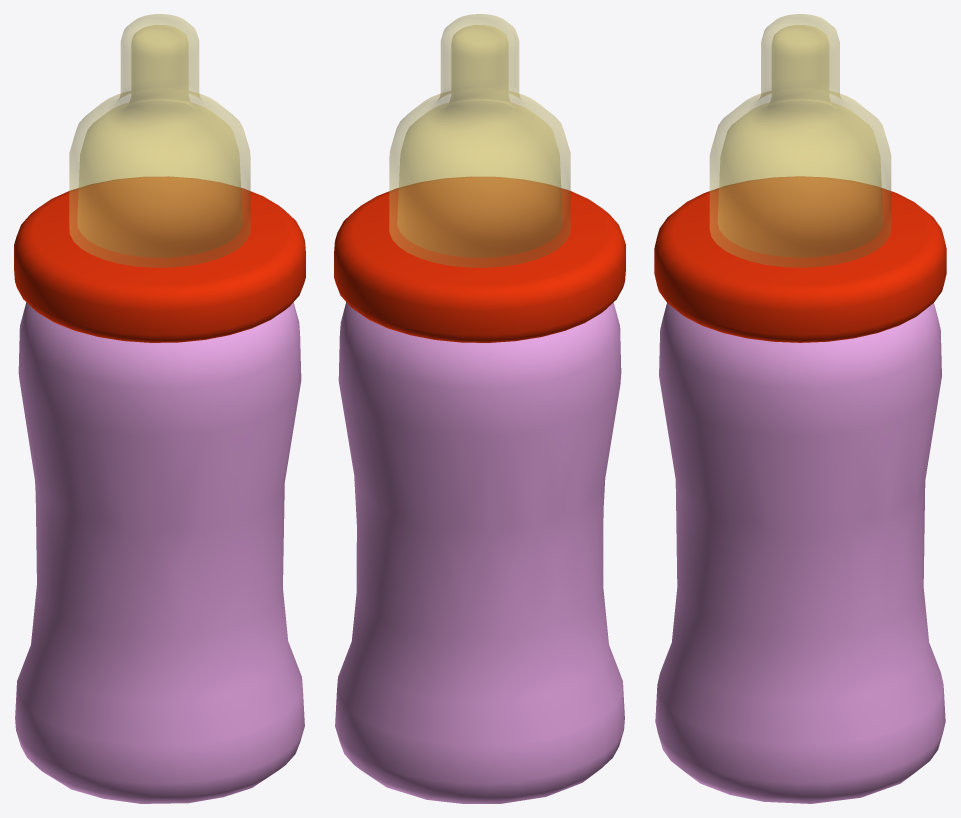
The model's file is milk.fbx.
The picture shows the model from 3 angles, left to right: view 1: azimuth 30°, elevation 25°; view 2: azimuth 150°, elevation 25°; view 3: azimuth 270°, elevation 25°; orthographic projection.
Visible parts, largest first — view 1: Cylinder, Cylinder.001, Cylinder.002; view 2: Cylinder, Cylinder.001, Cylinder.002; view 3: Cylinder, Cylinder.001, Cylinder.002.
Boxes of the visible parts, x1,y1,x2,y2 form: Cylinder: [15, 302, 304, 803]; Cylinder.001: [14, 176, 305, 342]; Cylinder.002: [69, 14, 250, 267]; Cylinder: [335, 302, 624, 803]; Cylinder.001: [334, 176, 625, 342]; Cylinder.002: [389, 14, 570, 267]; Cylinder: [655, 303, 945, 803]; Cylinder.001: [654, 176, 946, 342]; Cylinder.002: [710, 14, 890, 267].
Bounding box in the file's own units: 224 × 619 × 224.
